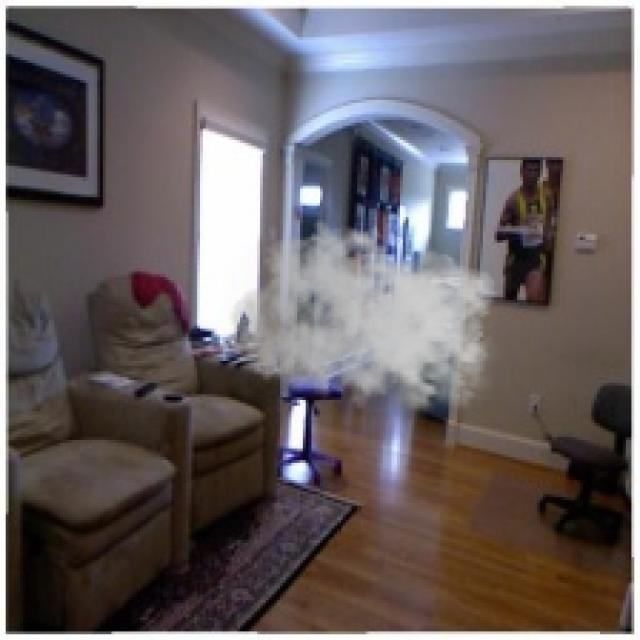Smoke: (228, 220, 506, 423)
